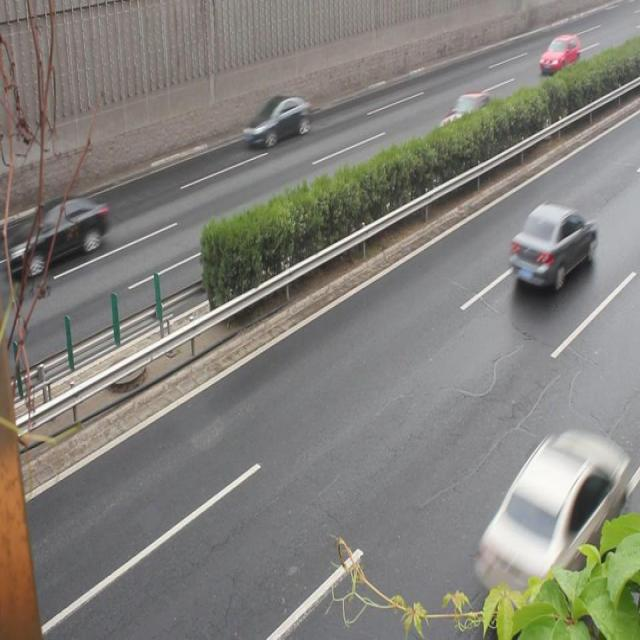car: (477, 428, 624, 600), (509, 200, 596, 288), (14, 198, 110, 269), (246, 93, 311, 148), (436, 92, 494, 150), (539, 32, 578, 73)
